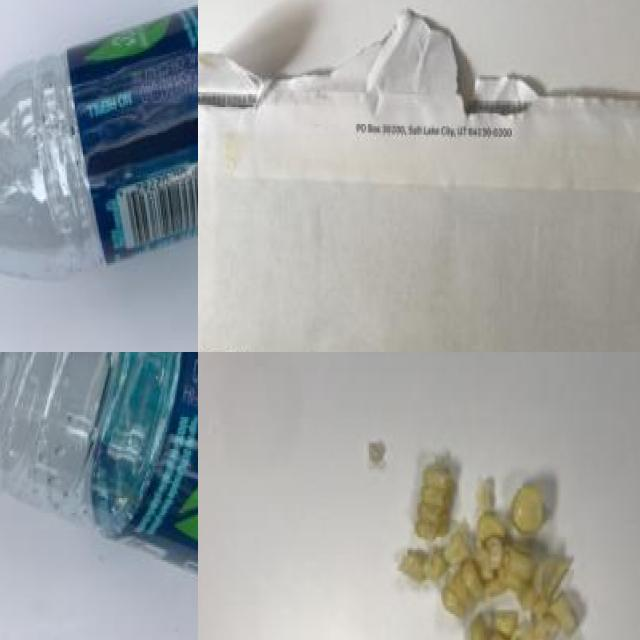compost: (382, 438, 603, 640)
paper: (198, 49, 640, 352)
plastic: (0, 0, 198, 287), (0, 352, 198, 636)
